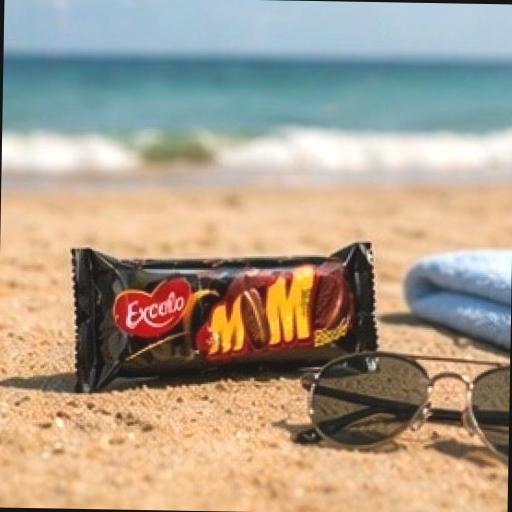MOMO: (54, 220, 380, 406)
